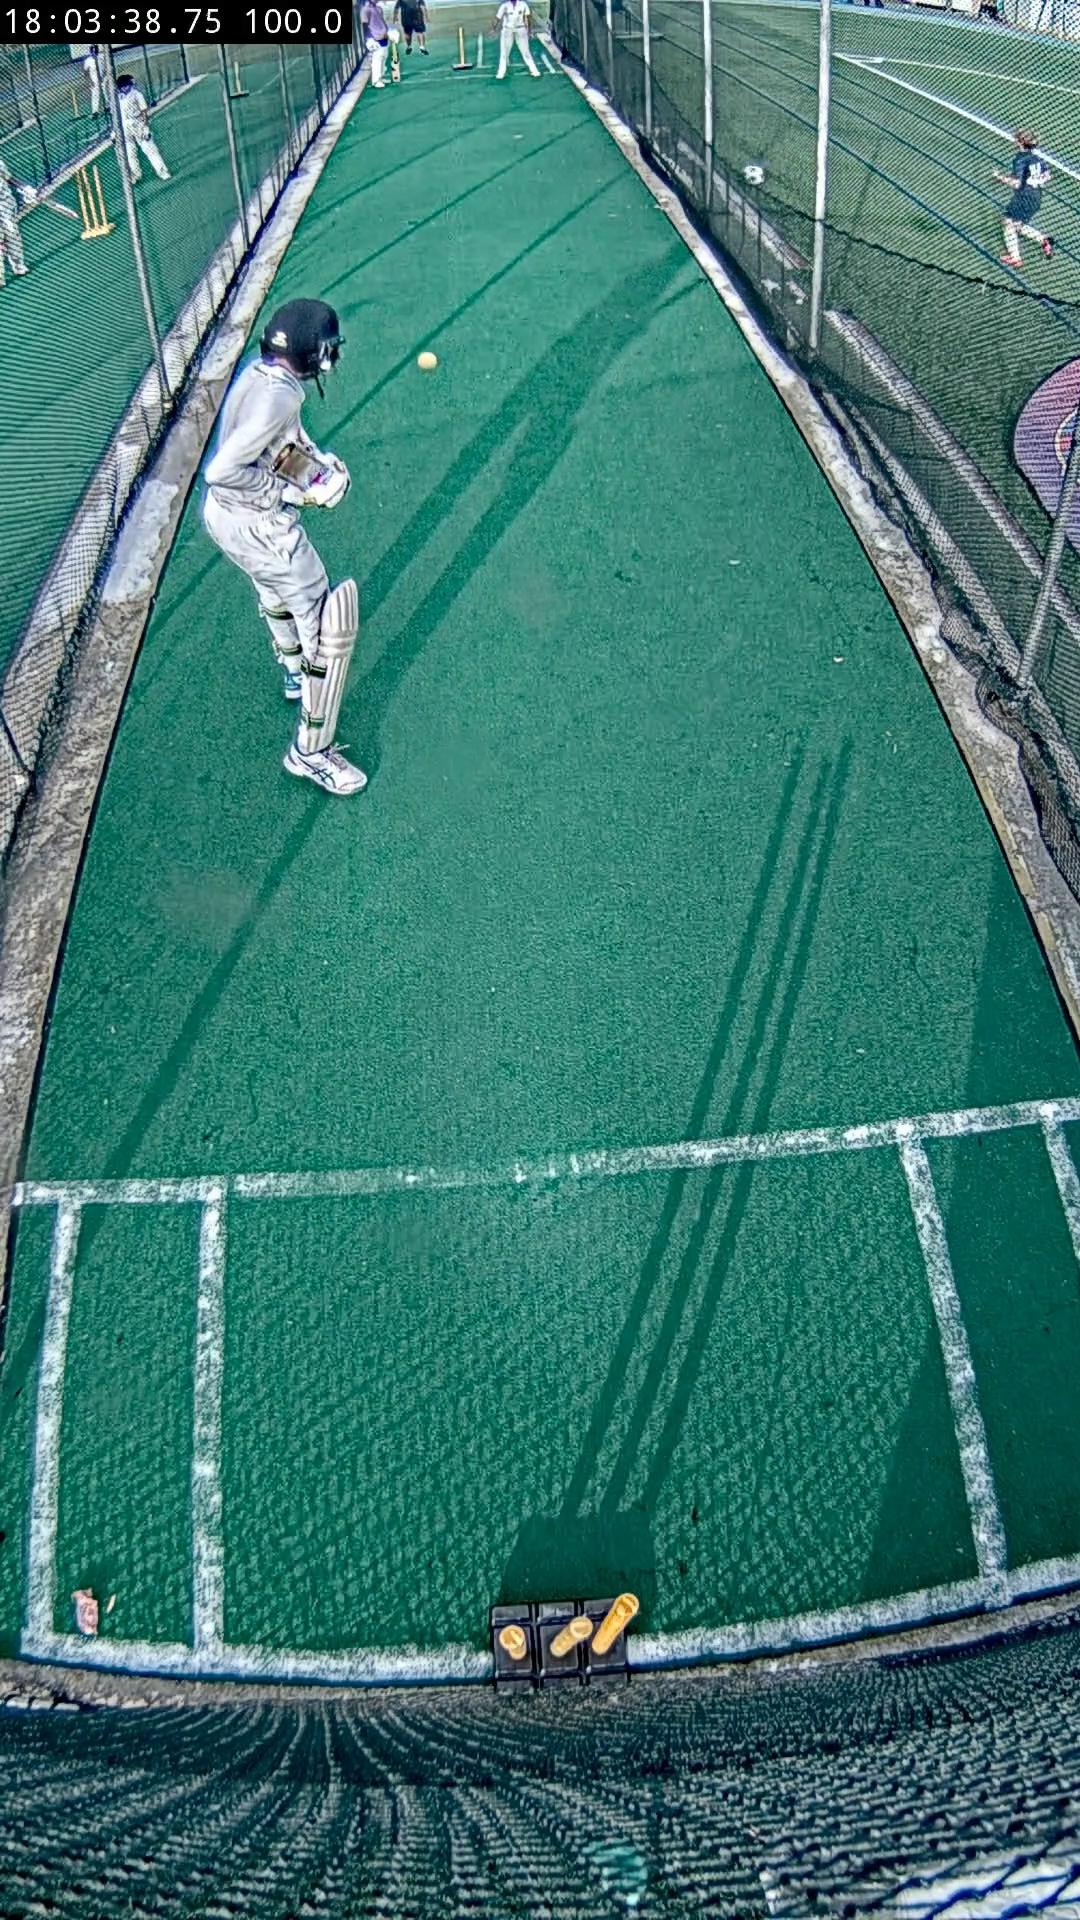ball: (417, 352, 439, 372)
bat: (274, 443, 330, 492)
gloves: (285, 462, 348, 506)
helmet: (262, 301, 342, 378)
pads: (301, 578, 360, 748)
stumps: (492, 1594, 641, 1695)
